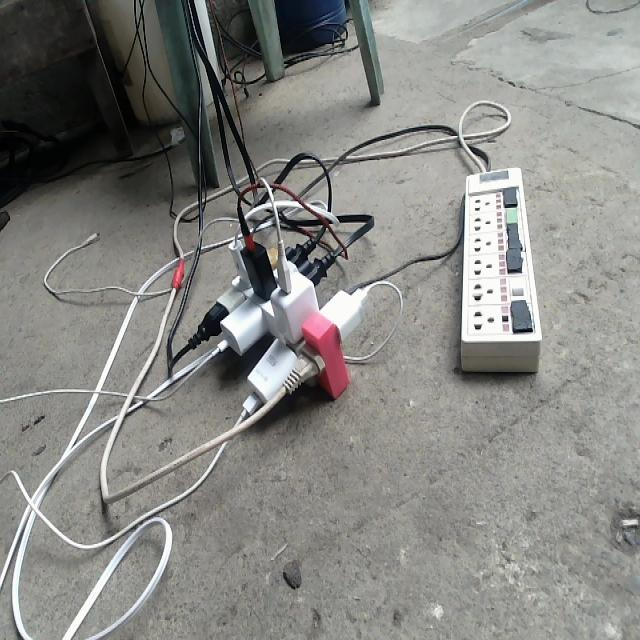-: (180, 178, 402, 422)
